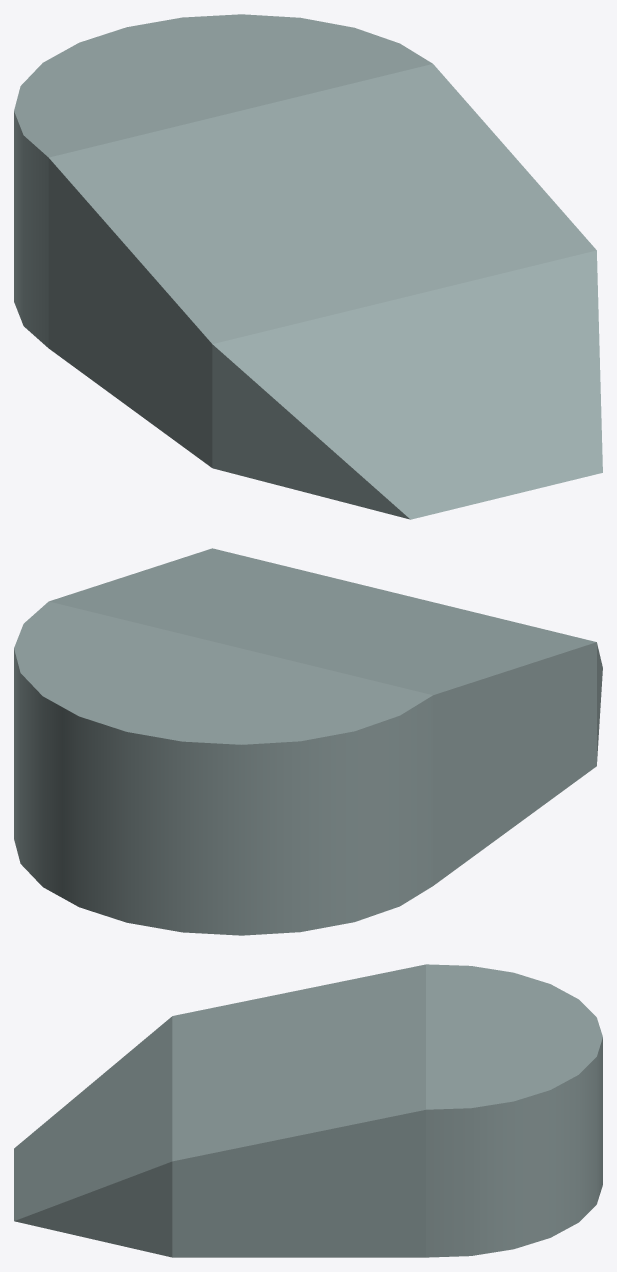
The model's file is computerMouse.glb.
3 renders of one model, top to bottom at view 1: azimuth 30°, elevation 25°; view 2: azimuth 150°, elevation 25°; view 3: azimuth 270°, elevation 25°, orthographic. The views are drawn at different scales.
Parts seen in each view (by area): view 1: computerMouse(Clone); view 2: computerMouse(Clone); view 3: computerMouse(Clone).
Part boxes in pixels (x1,y1,x2,y2): computerMouse(Clone): [14, 14, 602, 519]; computerMouse(Clone): [14, 548, 602, 935]; computerMouse(Clone): [14, 964, 602, 1257].
Size of the model in its own units: 0.1009 by 0.0479 by 0.1728.
Materials: 1 (1 with a texture image).
